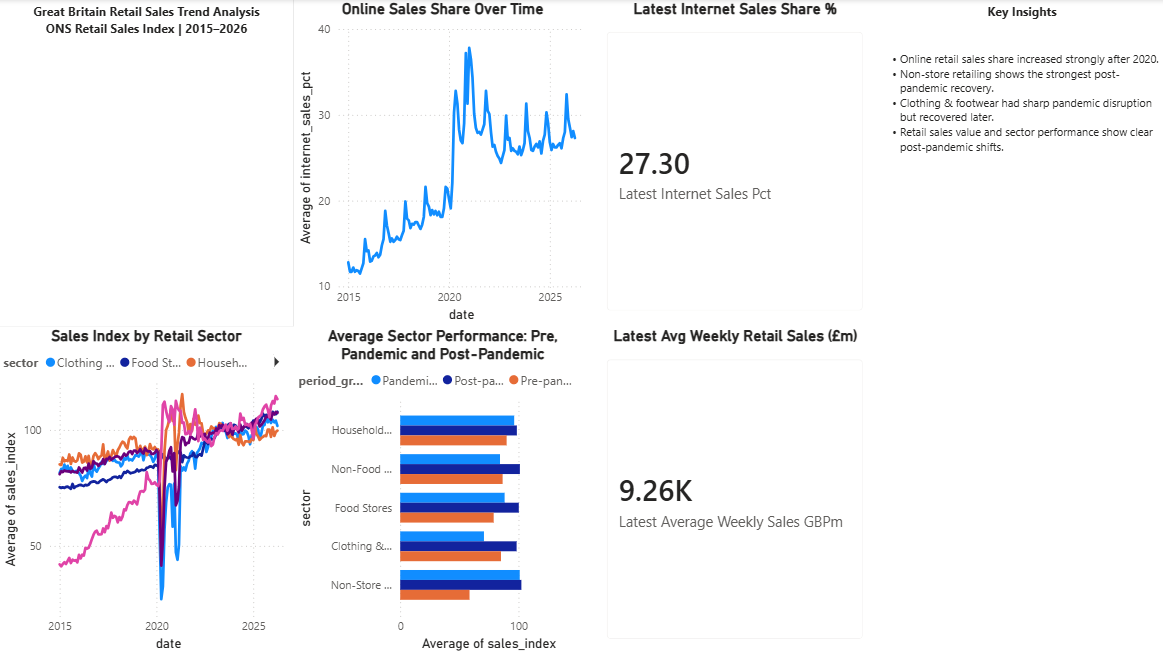

Layout of this report page (visuals, bound fields, positions):
{"tool":"powerbi","page":{"name":"Page 1","canvas":[1280,720],"ordinal":0},"visuals":[{"type":"textbox","box":[0,0,323.8,359.5],"z":0},{"type":"lineChart","title":"Online Sales Share Over Time","fields":{"Y":["Avg(cleaned_retail_sales_wide.internet_sales_pct)"],"Category":["cleaned_retail_sales_wide.date"]},"box":[323.8,0,326.6,359.5],"z":1},{"type":"lineChart","title":"Sales Index by Retail Sector","fields":{"Y":["Avg(cleaned_retail_sales_long.sales_index)"],"Series":["cleaned_retail_sales_long.sector"],"Category":["cleaned_retail_sales_long.date"]},"box":[0,359.5,323.8,360.9],"z":2},{"type":"clusteredBarChart","title":"Average Sector Performance: Pre, Pandemic and Post-Pandemic","fields":{"Category":["cleaned_retail_sales_long.sector"],"Y":["Avg(cleaned_retail_sales_long.sales_index)"],"Series":["cleaned_retail_sales_long.period_group"]},"box":[323.8,359.5,326.6,360.9],"z":4},{"type":"cardVisual","title":"Latest Internet Sales Share %","fields":{"Data":["cleaned_retail_sales_long.Latest Internet Sales Pct"]},"box":[650.4,0,315.6,359.5],"z":5},{"type":"cardVisual","title":"Latest Avg Weekly Retail Sales (£m)","fields":{"Data":["cleaned_retail_sales_long.Latest Average Weekly Sales GBPm"]},"box":[650.4,359.5,315.6,360.9],"z":6}]}

Visuals, with their boxes in screenshot pixels (x1, y1, x2, y2), scaled from the page's 1280x720 canvas onto the 1163x654 screenshot:
textbox: {"x1": 0, "y1": 0, "x2": 294, "y2": 327}
"Online Sales Share Over Time" lineChart: {"x1": 294, "y1": 0, "x2": 591, "y2": 327}
"Sales Index by Retail Sector" lineChart: {"x1": 0, "y1": 327, "x2": 294, "y2": 653}
"Average Sector Performance: Pre, Pandemic and Post-Pandemic" clusteredBarChart: {"x1": 294, "y1": 327, "x2": 591, "y2": 653}
"Latest Internet Sales Share %" cardVisual: {"x1": 591, "y1": 0, "x2": 878, "y2": 327}
"Latest Avg Weekly Retail Sales (£m)" cardVisual: {"x1": 591, "y1": 327, "x2": 878, "y2": 653}
